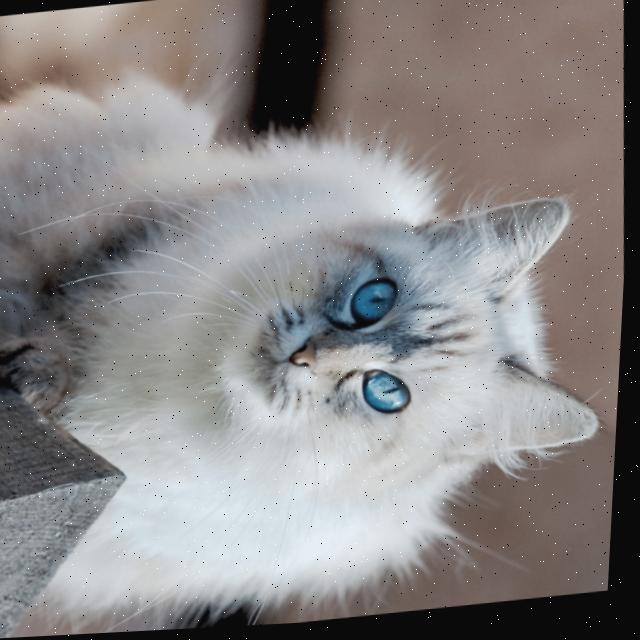Neva Masquerade: (0, 30, 633, 638)
